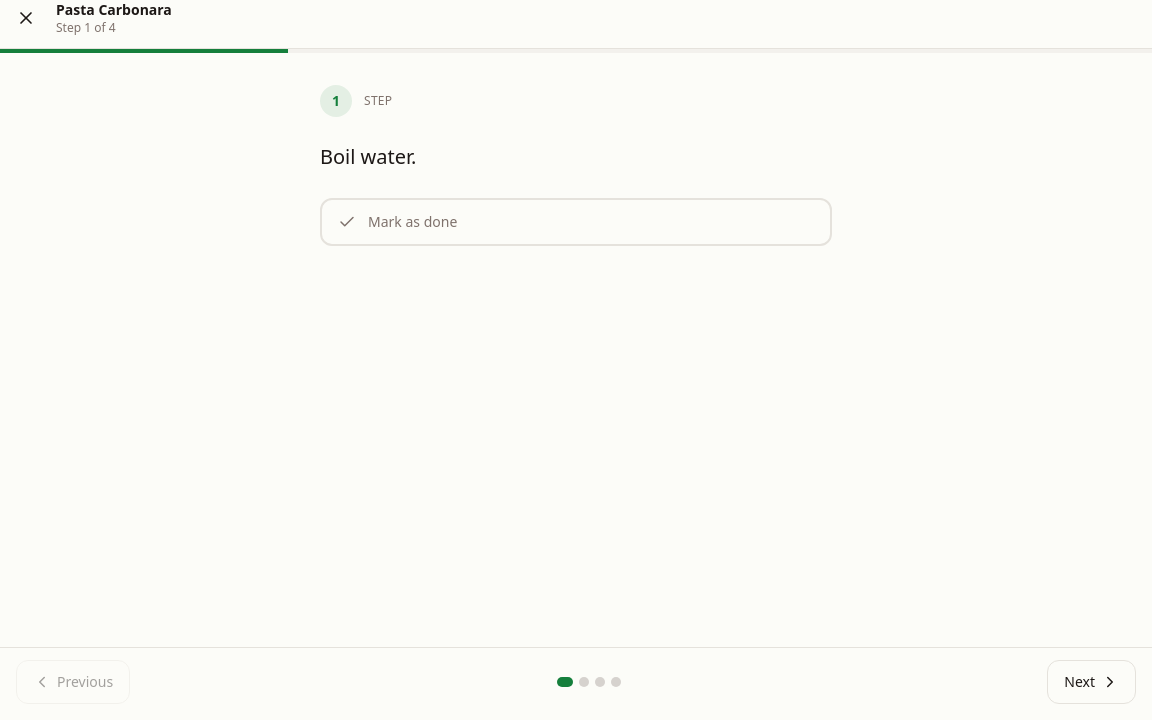
Test: CookModePage — navigation › goes back to step 1 when Previous is clicked from step 2
Expected: the text "Pasta Carbonara" is shown, [56,0,172,19]
Click the button with aria-label "Next step" at (1092, 682), box [1047,660,1136,704]
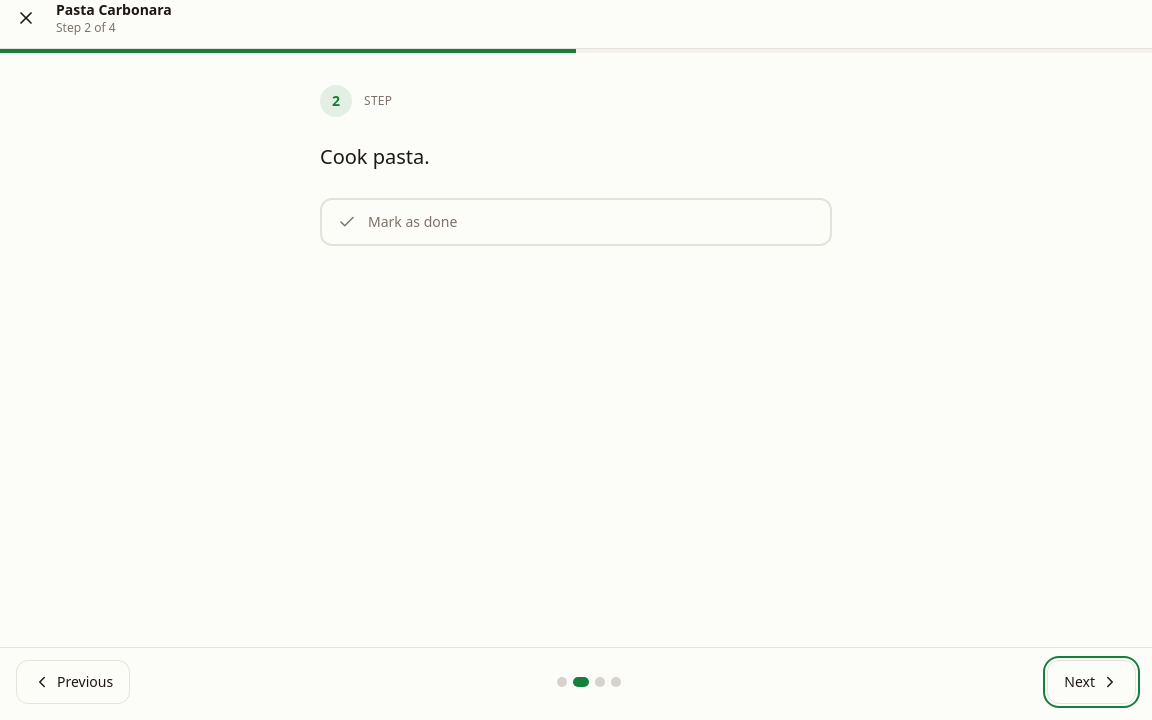
Click the button with aria-label "Previous step" at (73, 682), box [16,660,130,704]
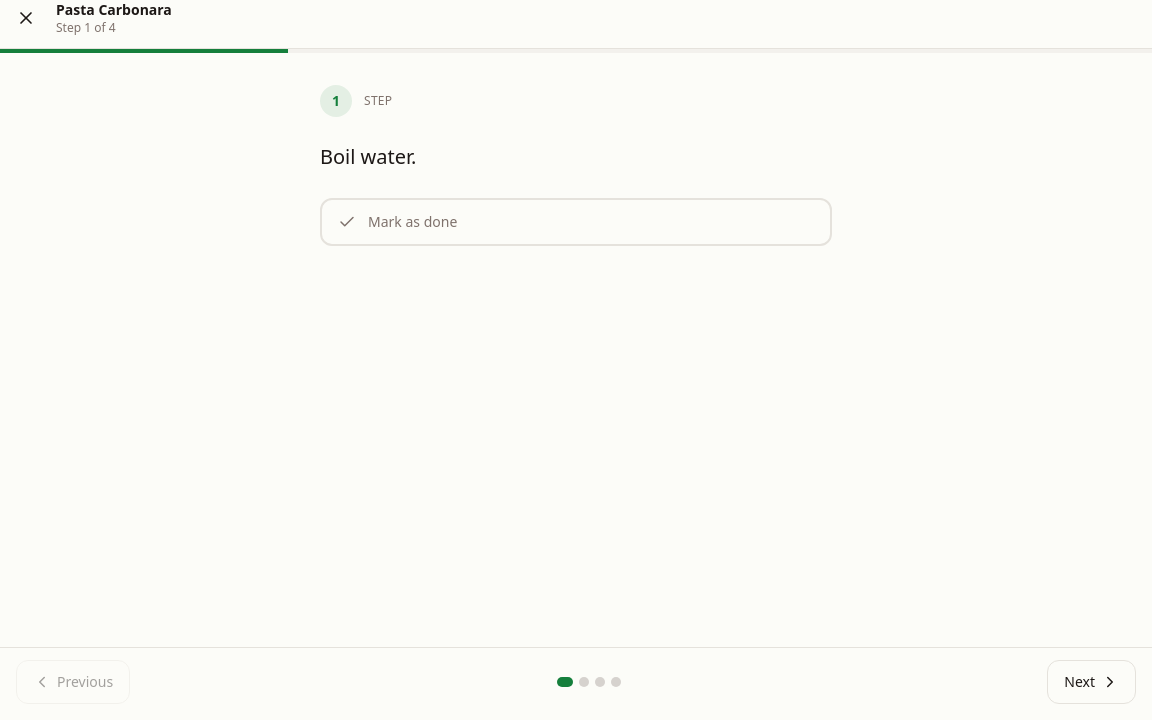
Result: the text "Step 1 of 4" is shown at [56,19,116,36]
